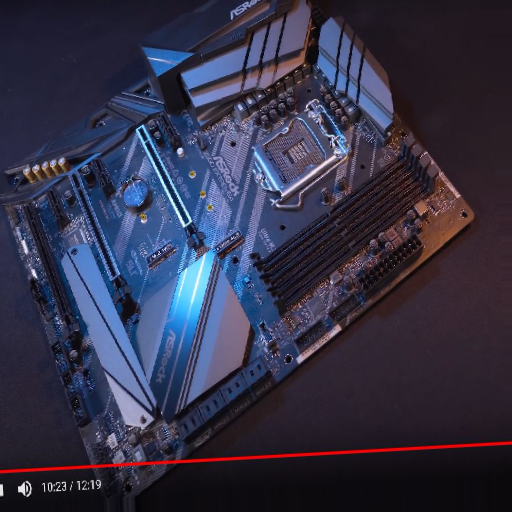CPU: (251, 107, 345, 196)
GPU: (67, 170, 135, 307), (134, 124, 206, 248)
MOTHERBOARD: (9, 4, 474, 479)
RAM: (251, 133, 442, 315)
SSD: (212, 230, 245, 257), (144, 243, 177, 268)
